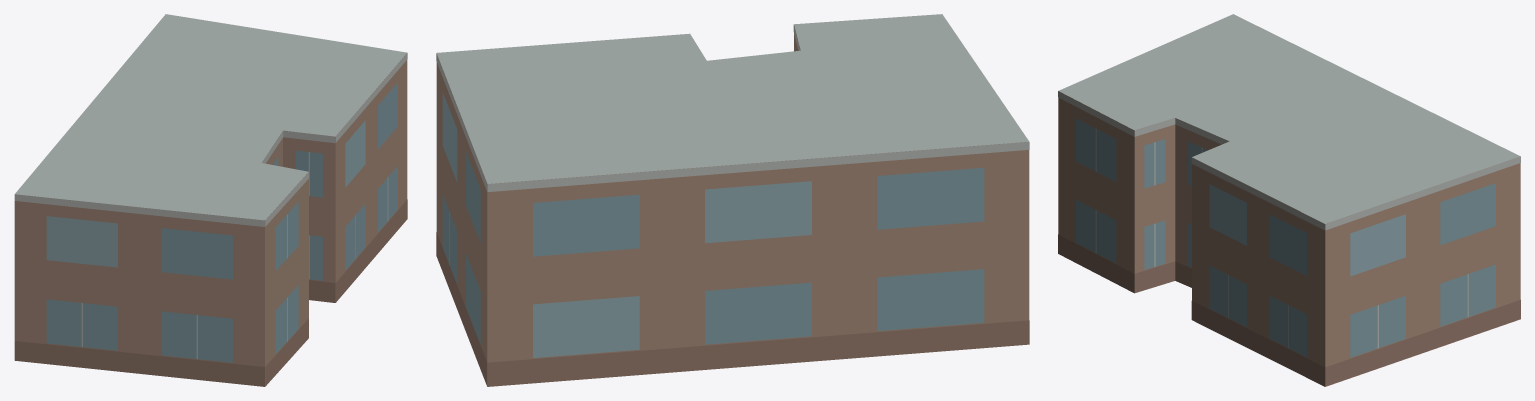
File: survey-upis-32495685.glb
3 renders of one model, left to right at view 1: azimuth 30°, elevation 25°; view 2: azimuth 150°, elevation 25°; view 3: azimuth 270°, elevation 25°, orthographic. The views are drawn at different scales.
Parts seen in each view (by area): view 1: survey-upis-32495685.tmp; view 2: survey-upis-32495685.tmp; view 3: survey-upis-32495685.tmp.
Part boxes in pixels (<box>): survey-upis-32495685.tmp: <box>14,14,407,386</box>; survey-upis-32495685.tmp: <box>436,14,1029,386</box>; survey-upis-32495685.tmp: <box>1058,14,1520,386</box>.
Size of the model in its own units: 16.88 by 6.1 by 15.71.
